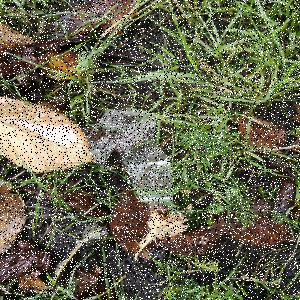Trash: (88, 109, 176, 207)
